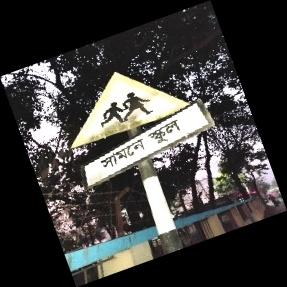School-in-front: (71, 70, 210, 188)
